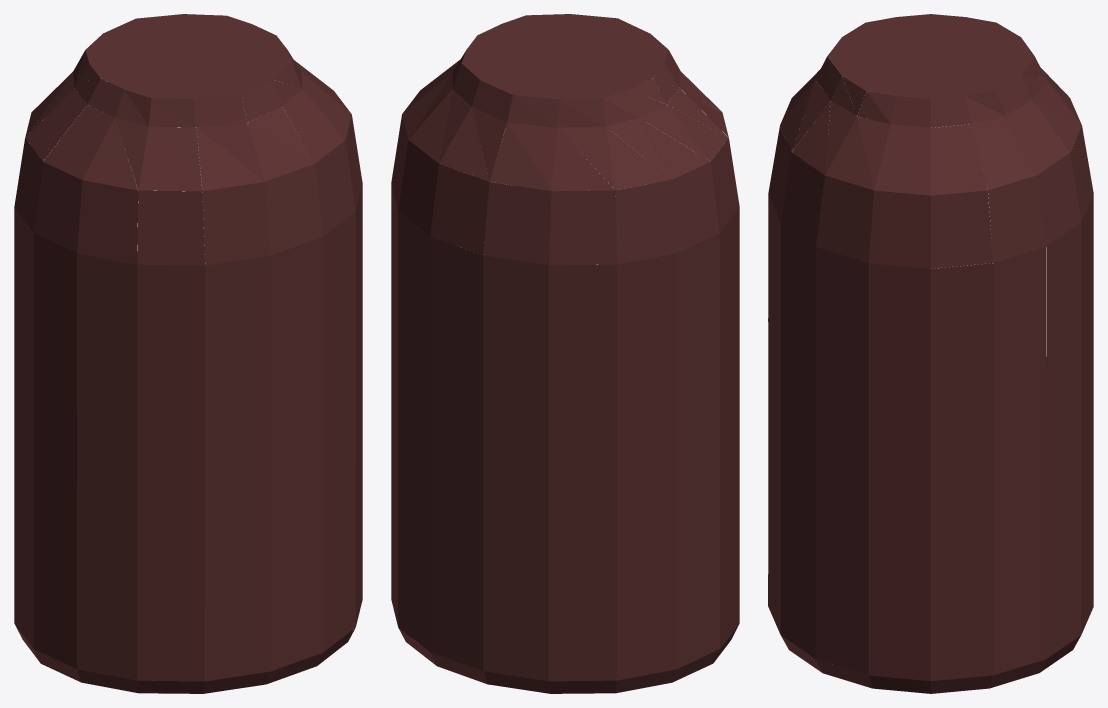
The model's file is original_8.obj.
The picture shows the model from 3 angles, left to right: view 1: azimuth 30°, elevation 25°; view 2: azimuth 150°, elevation 25°; view 3: azimuth 270°, elevation 25°; orthographic projection.
Visible parts, largest first — view 1: #ID51; view 2: #ID51; view 3: #ID51.
Boxes of the visible parts, box(x1,y1,x2,y2) form: #ID51: box(14, 14, 362, 693); #ID51: box(391, 14, 739, 693); #ID51: box(768, 14, 1093, 693).
Size of the model in its own units: 0.7249 by 1.29 by 0.6669.
